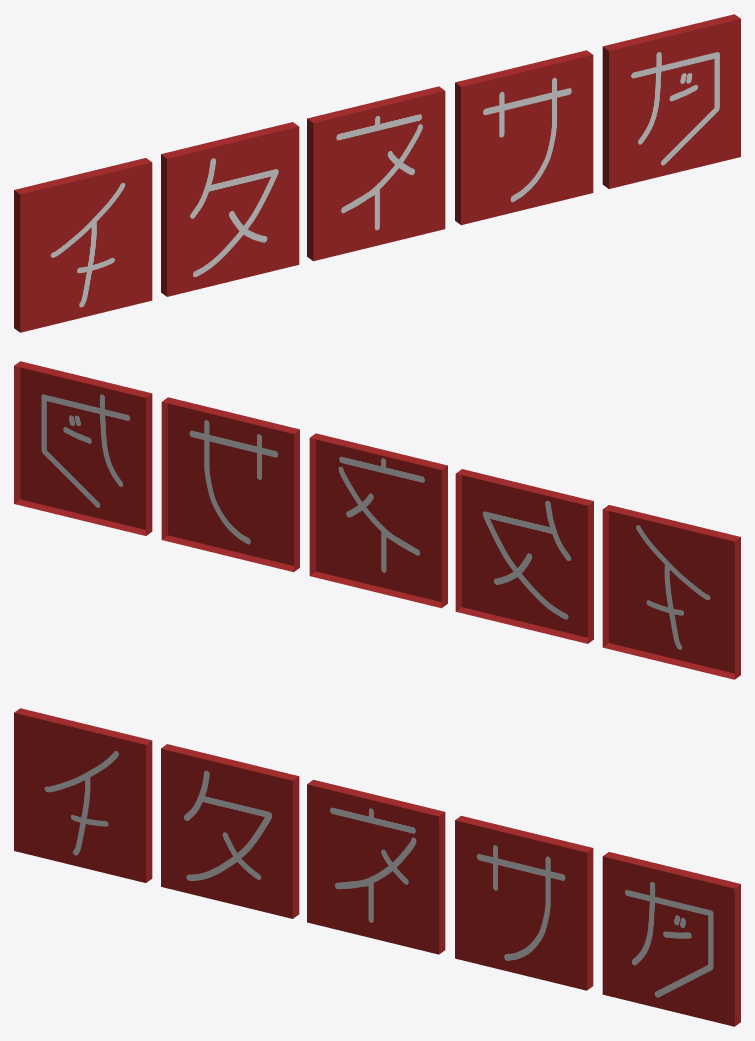
File: Sign1.fbx
3 renders of one model, top to bottom at view 1: azimuth 30°, elevation 25°; view 2: azimuth 150°, elevation 25°; view 3: azimuth 330°, elevation 25°, orthographic.
Visible parts, largest first — view 1: pasted__pCube27; view 2: pasted__pCube27; view 3: pasted__pCube27.
Part boxes in pixels (left/top/right/bottom): pasted__pCube27: left=14, top=14, right=740, bottom=332; pasted__pCube27: left=14, top=361, right=740, bottom=679; pasted__pCube27: left=14, top=708, right=740, bottom=1026.
Bounding box in the file's own units: 3.79 × 0.6951 × 0.0576.
